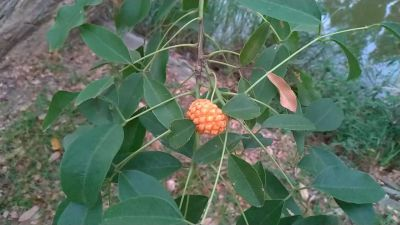eggs: (189, 97, 228, 137)
